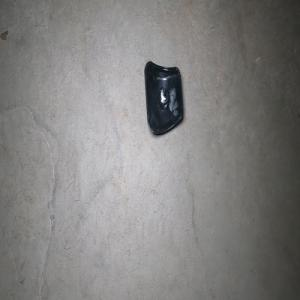LuggagePart: (143, 60, 184, 136)
